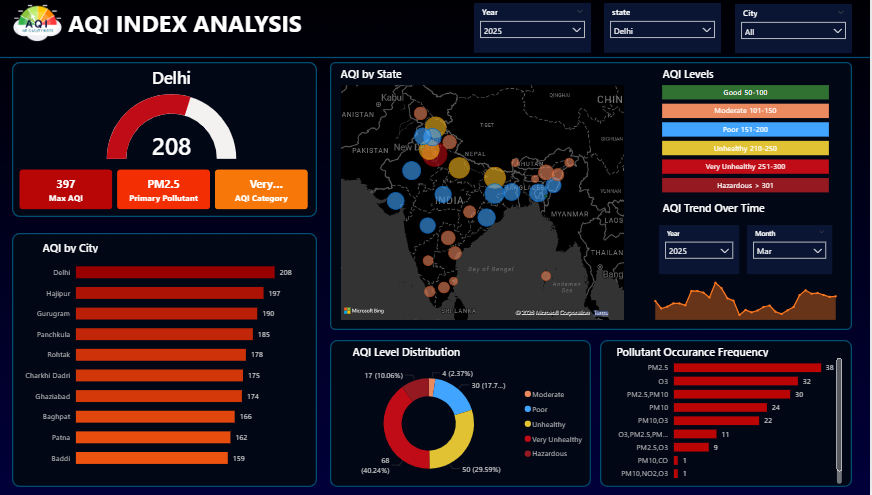

The dashboard page shown, as its layout file describes it:
{"tool":"powerbi","page":{"name":"AQI INDEX ANALYSIS","canvas":[1400,800],"ordinal":0},"visuals":[{"type":"textbox","box":[85.1,11.2,408,78.7],"z":0},{"type":"shape","box":[22.5,104.4,490,249],"z":1000},{"type":"image","box":[20.9,11.2,85.1,61],"z":2000},{"type":"gauge","fields":{"Y":["day_wise_aqi_data.Avg AQI"]},"box":[128.5,151,300.4,114.1],"z":3000},{"type":"slicer","fields":{"Values":["Calender Table.Year"]},"box":[764.7,9.6,188,80.3],"z":4000},{"type":"slicer","fields":{"Values":["day_wise_aqi_data.state"]},"box":[973.5,9.6,188,80.3],"z":5000},{"type":"slicer","fields":{"Values":["day_wise_aqi_data.area"]},"box":[1183.9,11.2,188,78.7],"z":6000},{"type":"cardVisual","fields":{"Data":["Max(day_wise_aqi_data.aqi_value)","day_wise_aqi_data.Primary Pollutant","day_wise_aqi_data.AQI Category KPI"]},"box":[22.5,265.1,490,88.4],"z":7000},{"type":"cardVisual","fields":{"Data":["day_wise_aqi_data.KPI  Title"]},"box":[106,104.4,345.4,46.6],"z":8000},{"type":"shape","box":[533.3,104.4,838.6,430.5],"z":9000},{"type":"map","fields":{"Category":["day_wise_aqi_data.state"],"Size":["day_wise_aqi_data.Avg AQI"]},"box":[546.2,136.5,464.3,387.1],"z":10000},{"type":"cardVisual","fields":{"Data":["day_wise_aqi_data.State Map Title"]},"box":[533.3,104.4,146.2,32.1],"z":11000},{"type":"barChart","fields":{"Category":["day_wise_aqi_data.AQI Category"],"Y":["day_wise_aqi_data.Label"]},"box":[1061.8,128.5,277.9,191.2],"z":12000},{"type":"cardVisual","fields":{"Data":["day_wise_aqi_data.AQI Level Title"]},"box":[1050.6,104.4,147.8,32.1],"z":12001},{"type":"areaChart","fields":{"Category":["Calender Table.Date.Variation.Date Hierarchy.Day"],"Y":["day_wise_aqi_data.Avg AQI"]},"box":[1041,433.7,319.7,90],"z":12002},{"type":"slicer","fields":{"Values":["Calender Table.Date.Variation.Date Hierarchy.Year"]},"box":[1061.8,366.3,128.5,78.7],"z":12003},{"type":"slicer","fields":{"Values":["Calender Table.Month"]},"box":[1203.2,366.3,136.5,78.7],"z":12004},{"type":"cardVisual","fields":{"Data":["Min(day_wise_aqi_data.Title For Monthly Chart)"]},"box":[1050.6,319.7,220.1,32.1],"z":12005},{"type":"shape","box":[22.5,379.1,490,408],"z":12006},{"type":"barChart","fields":{"Category":["day_wise_aqi_data.area"],"Y":["day_wise_aqi_data.Avg AQI"]},"box":[32.5,405.9,447.4,362.6],"z":12007},{"type":"cardVisual","fields":{"Data":["day_wise_aqi_data.Title For City"]},"box":[54.6,383.9,147.8,32.1],"z":12008},{"type":"shape","box":[533.3,551,419.3,236.1],"z":12009},{"type":"donutChart","fields":{"Category":["day_wise_aqi_data.AQI Category"],"Y":["day_wise_aqi_data.Count of Rows"]},"box":[533.3,583.1,419.3,204],"z":12010},{"type":"cardVisual","fields":{"Data":["day_wise_aqi_data.Donout Title"]},"box":[552.6,551,236.1,32.1],"z":12011},{"type":"shape","box":[967.1,551,404.8,236.1],"z":12012},{"type":"clusteredBarChart","fields":{"Y":["day_wise_aqi_data.Count of Rows"],"Category":["day_wise_aqi_data.prominent_pollutants"]},"box":[976.7,567.1,383.9,220.1],"z":12013},{"type":"cardVisual","fields":{"Data":["day_wise_aqi_data.Pollutant Title"]},"box":[976.7,551,294,32.1],"z":12014},{"type":"shape","box":[0,90,1400.8,14.5],"z":12015}]}

Visuals, with their boxes in screenshot pixels (x1, y1, x2, y2), scaled from the page's 1400x800 canvas onto the 872x495 screenshot:
textbox: [x1=53, y1=7, x2=307, y2=56]
shape: [x1=14, y1=65, x2=319, y2=219]
image: [x1=13, y1=7, x2=66, y2=45]
gauge - day_wise_aqi_data.Avg AQI: [x1=80, y1=93, x2=267, y2=164]
slicer - Calender Table.Year: [x1=476, y1=6, x2=593, y2=56]
slicer - day_wise_aqi_data.state: [x1=606, y1=6, x2=723, y2=56]
slicer - day_wise_aqi_data.area: [x1=737, y1=7, x2=854, y2=56]
cardVisual - Max(day_wise_aqi_data.aqi_value) x day_wise_aqi_data.Primary Pollutant: [x1=14, y1=164, x2=319, y2=219]
cardVisual - day_wise_aqi_data.KPI  Title: [x1=66, y1=65, x2=281, y2=93]
shape: [x1=332, y1=65, x2=854, y2=331]
map - day_wise_aqi_data.state x day_wise_aqi_data.Avg AQI: [x1=340, y1=84, x2=629, y2=324]
cardVisual - day_wise_aqi_data.State Map Title: [x1=332, y1=65, x2=423, y2=84]
barChart - day_wise_aqi_data.AQI Category x day_wise_aqi_data.Label: [x1=661, y1=80, x2=834, y2=198]
cardVisual - day_wise_aqi_data.AQI Level Title: [x1=654, y1=65, x2=746, y2=84]
areaChart - Calender Table.Date.Variation.Date Hierarchy.Day x day_wise_aqi_data.Avg AQI: [x1=648, y1=268, x2=848, y2=324]
slicer - Calender Table.Date.Variation.Date Hierarchy.Year: [x1=661, y1=227, x2=741, y2=275]
slicer - Calender Table.Month: [x1=749, y1=227, x2=834, y2=275]
cardVisual - Min(day_wise_aqi_data.Title For Monthly Chart): [x1=654, y1=198, x2=791, y2=218]
shape: [x1=14, y1=235, x2=319, y2=487]
barChart - day_wise_aqi_data.area x day_wise_aqi_data.Avg AQI: [x1=20, y1=251, x2=299, y2=476]
cardVisual - day_wise_aqi_data.Title For City: [x1=34, y1=238, x2=126, y2=257]
shape: [x1=332, y1=341, x2=593, y2=487]
donutChart - day_wise_aqi_data.AQI Category x day_wise_aqi_data.Count of Rows: [x1=332, y1=361, x2=593, y2=487]
cardVisual - day_wise_aqi_data.Donout Title: [x1=344, y1=341, x2=491, y2=361]
shape: [x1=602, y1=341, x2=854, y2=487]
clusteredBarChart - day_wise_aqi_data.Count of Rows x day_wise_aqi_data.prominent_pollutants: [x1=608, y1=351, x2=847, y2=487]
cardVisual - day_wise_aqi_data.Pollutant Title: [x1=608, y1=341, x2=791, y2=361]
shape: [x1=0, y1=56, x2=871, y2=65]
